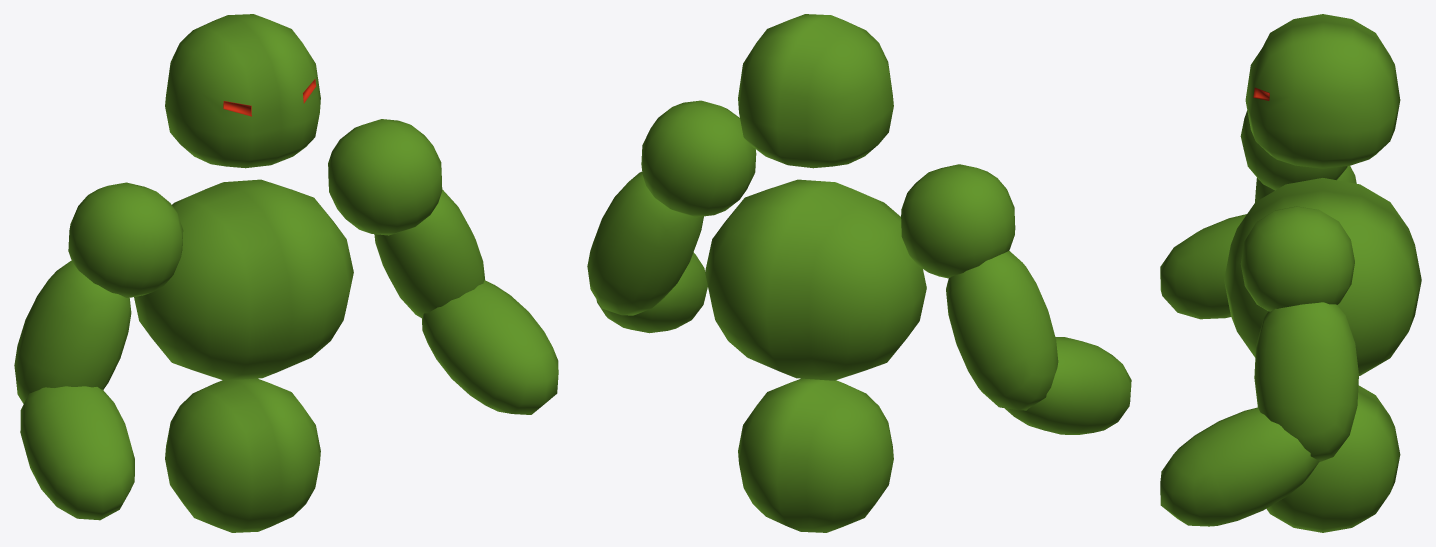
Rendered from troll.glb.
The picture shows the model from 3 angles, left to right: view 1: azimuth 30°, elevation 25°; view 2: azimuth 150°, elevation 25°; view 3: azimuth 270°, elevation 25°; orthographic projection.
Visible parts, largest first — view 1: Cube; view 2: Cube; view 3: Cube.
Boxes of the visible parts, left/top/right/bottom form: Cube: left=14, top=14, right=558, bottom=532; Cube: left=587, top=14, right=1131, bottom=532; Cube: left=1160, top=14, right=1421, bottom=532.
Bounding box in the file's own units: 6.33 × 6.01 × 2.84.
1 material, 1 textured.
